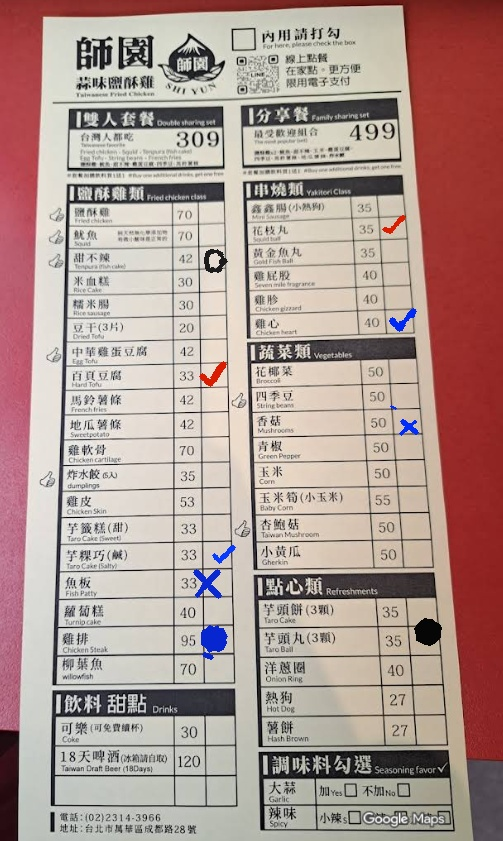marked_circle: (203, 627, 232, 657), (408, 627, 439, 655)
marked_hollow: (196, 246, 225, 268)
marked_tick: (199, 364, 228, 387), (384, 309, 413, 332), (202, 542, 231, 565), (378, 216, 407, 238)
marked_x: (203, 566, 232, 596), (391, 408, 420, 431)
